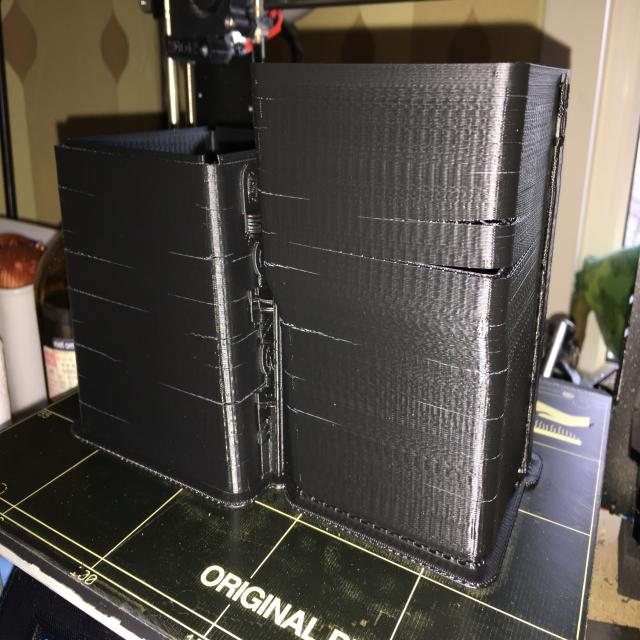Warping: (64, 280, 146, 312), (420, 260, 529, 282), (60, 242, 134, 268), (452, 212, 524, 238), (188, 328, 262, 348), (177, 291, 251, 309), (175, 245, 236, 266)
